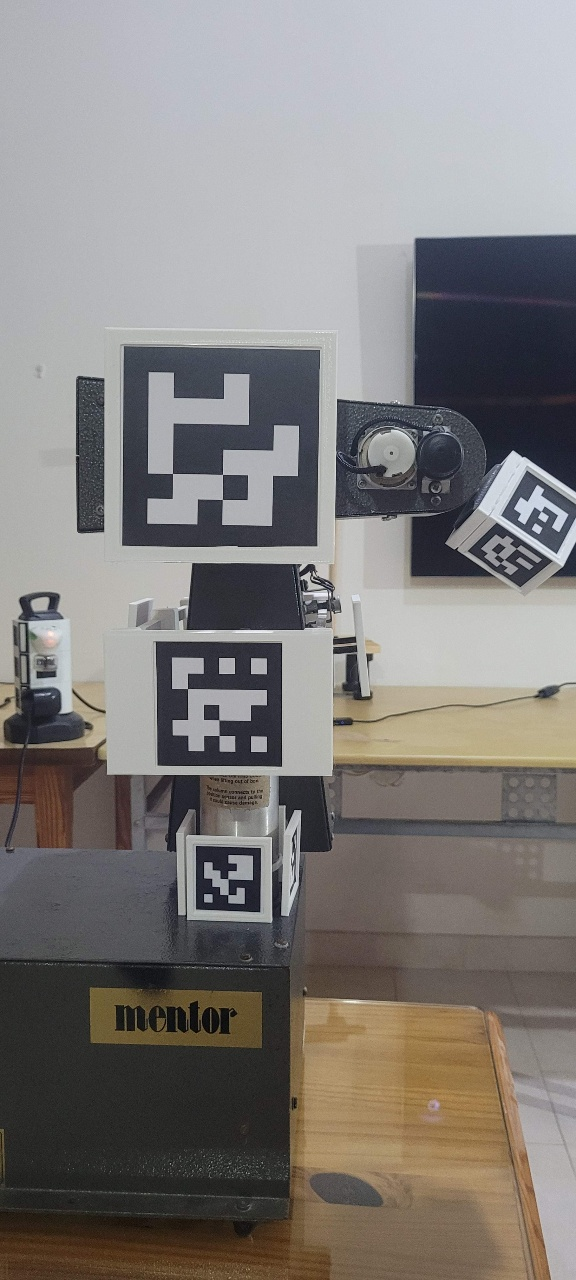Robot: (75, 327, 576, 928)
